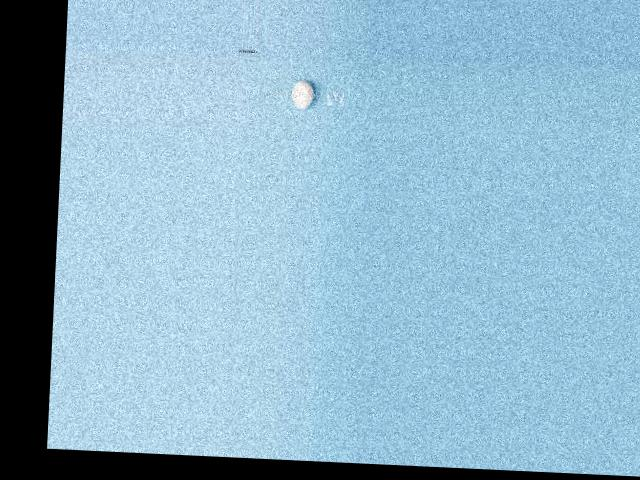egg: (291, 80, 313, 108)
